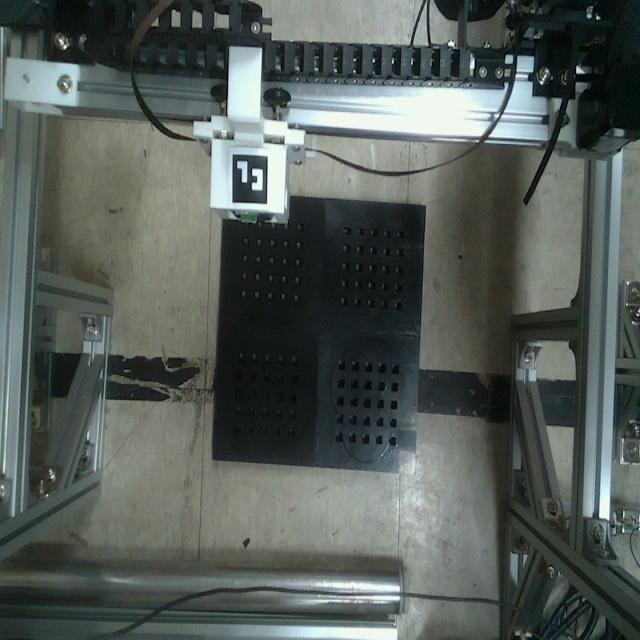pallet: (208, 196, 428, 477)
